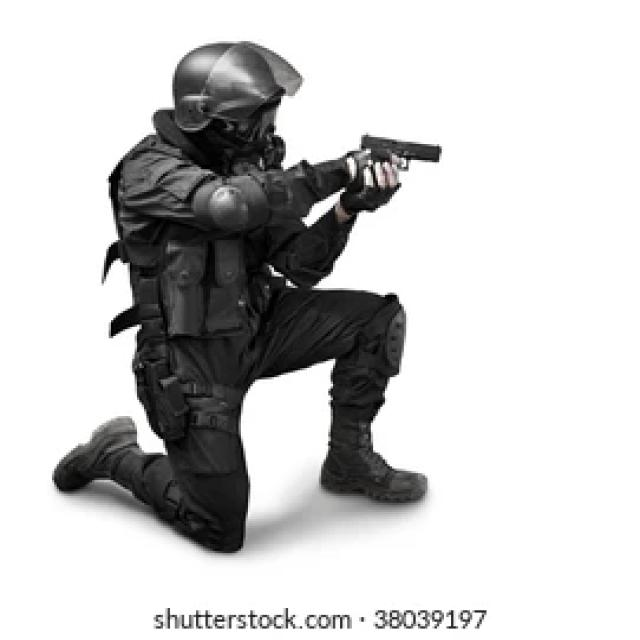soldier: (51, 36, 444, 556)
